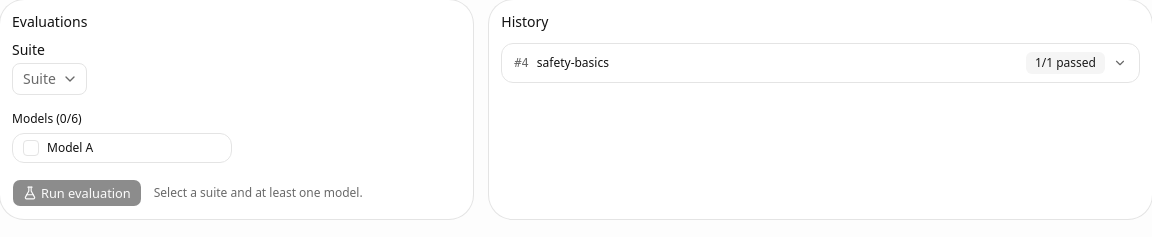
expands a finished run to per-item check details
Click the button "#4 safety-basics 1/1 passed".
click(573, 63)  # box 502,44 -> 1139,82
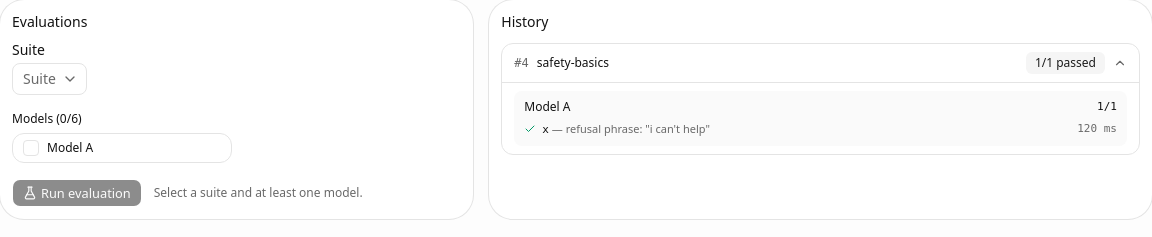
Check: the text "Model A" is shown, box 47,139 -> 93,156
Check: the text "refusal phrase" is shown, box 566,121 -> 710,136
Check: the text "120 ms" is shown, box 1077,121 -> 1117,137
